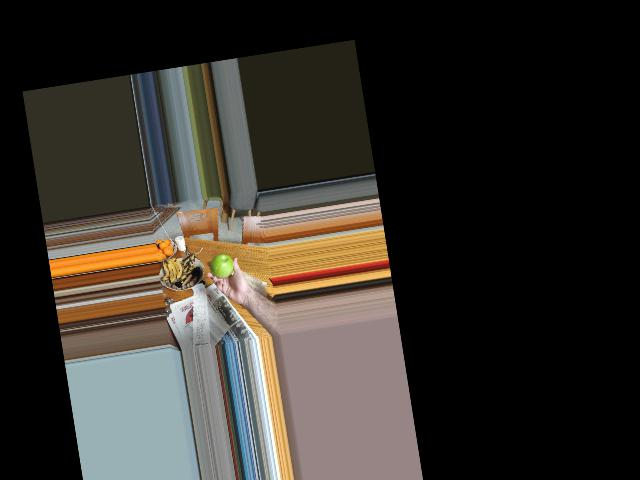apple: (208, 251, 234, 281)
